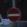No entry: (6, 6, 22, 22)
